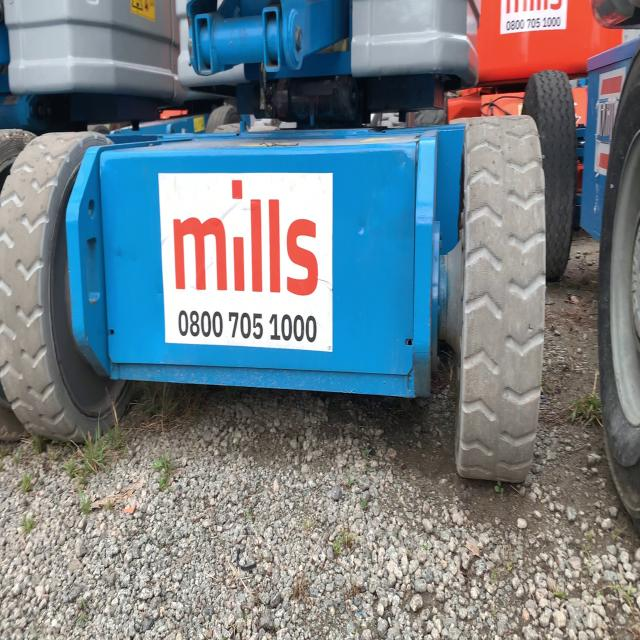Adesivos: (154, 164, 337, 358)
